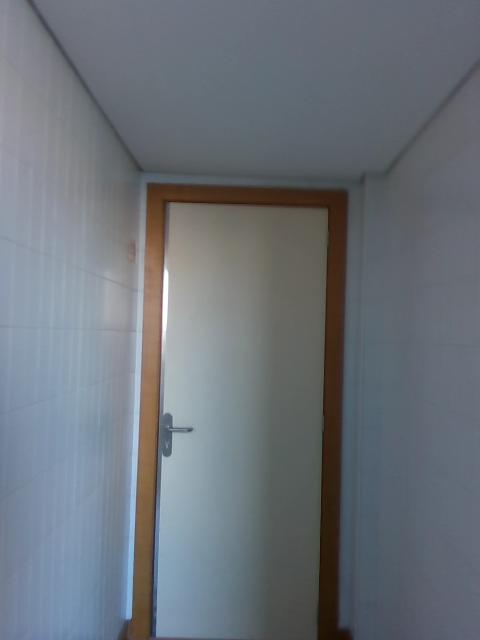door: (156, 202, 327, 640)
